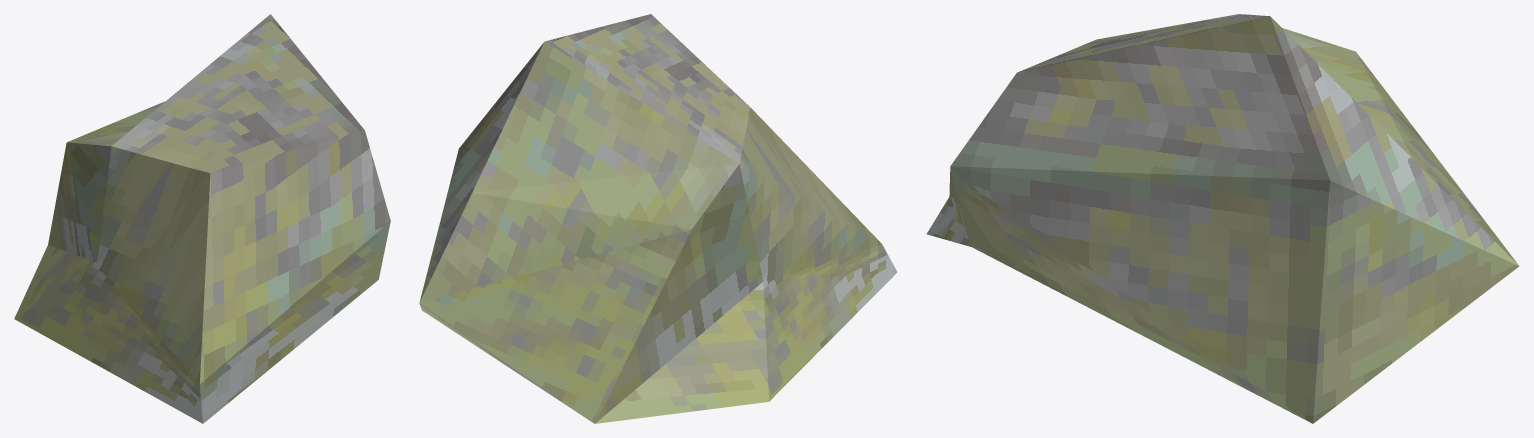
Rendered from Stone2.fbx.
3 renders of one model, left to right at view 1: azimuth 30°, elevation 25°; view 2: azimuth 150°, elevation 25°; view 3: azimuth 270°, elevation 25°, orthographic. The views are drawn at different scales.
Parts seen in each view (by area): view 1: Stone2; view 2: Stone2; view 3: Stone2.
Part boxes in pixels (box(x1,y1,x2,y2)): Stone2: box(14, 14, 390, 423); Stone2: box(419, 14, 897, 423); Stone2: box(926, 14, 1519, 423).
Bounding box in the file's own units: 21.06 × 16.02 × 24.97.
1 material, 1 textured.
